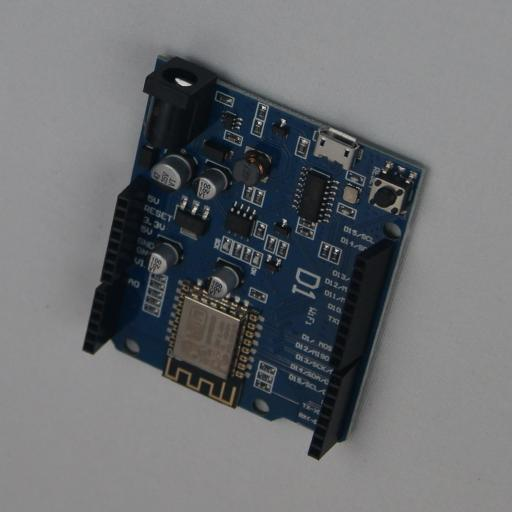Arduino Uno WiFi Shield: (82, 55, 428, 460)
